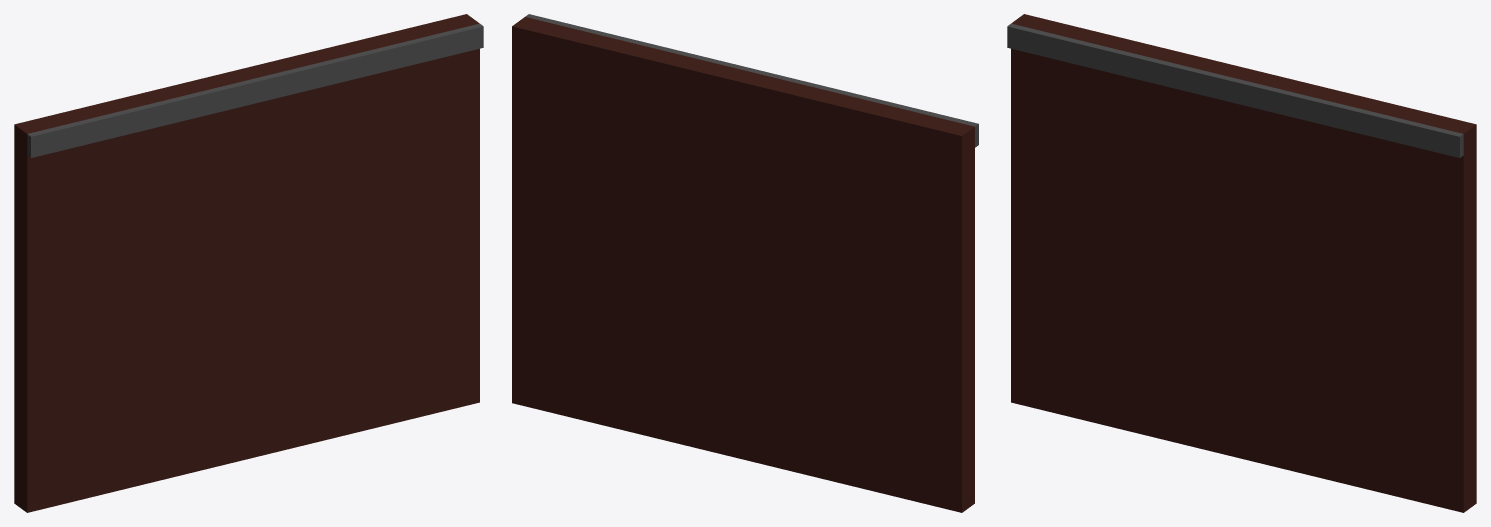
File: KIT_Wall_4m_Plain_BrickDark.glb
3 renders of one model, left to right at view 1: azimuth 30°, elevation 25°; view 2: azimuth 150°, elevation 25°; view 3: azimuth 330°, elevation 25°, orthographic.
Parts seen in each view (by area): view 1: KIT_Wall_4m_Plain_BrickDark; view 2: KIT_Wall_4m_Plain_BrickDark; view 3: KIT_Wall_4m_Plain_BrickDark.
Part boxes in pixels (x1=…): KIT_Wall_4m_Plain_BrickDark: x1=14, y1=14, x2=483, y2=512; KIT_Wall_4m_Plain_BrickDark: x1=512, y1=14, x2=978, y2=512; KIT_Wall_4m_Plain_BrickDark: x1=1007, y1=14, x2=1476, y2=512.
Size of the model in its own units: 4 by 3.2 by 0.26.
